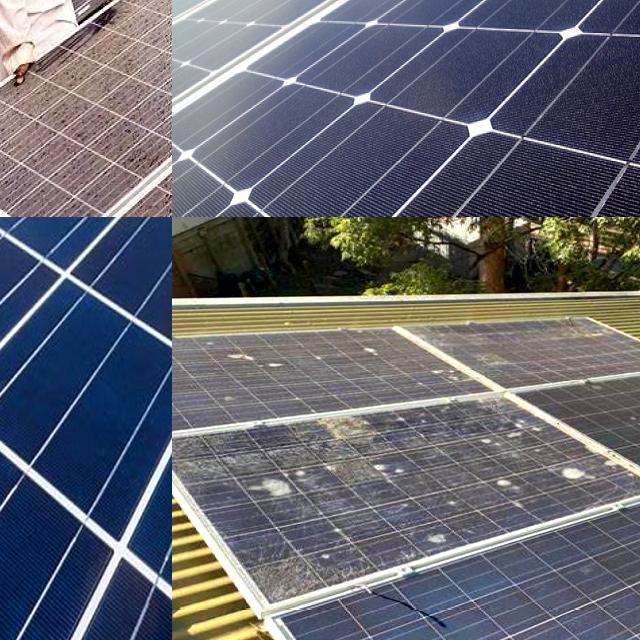bird: (204, 336, 328, 379), (442, 416, 550, 458), (304, 402, 388, 442), (246, 455, 304, 507), (424, 354, 497, 392), (274, 553, 320, 597), (556, 443, 590, 499), (336, 326, 394, 358), (406, 524, 453, 554), (368, 460, 410, 490), (469, 470, 520, 494), (172, 357, 187, 393)
crack: (0, 217, 172, 640)
dust: (58, 51, 169, 150), (206, 0, 394, 38), (172, 29, 215, 188), (0, 36, 34, 128), (0, 112, 39, 181), (0, 0, 48, 43), (0, 0, 33, 56), (0, 0, 39, 43), (0, 0, 30, 51), (88, 0, 172, 17), (123, 0, 153, 39), (140, 0, 172, 25), (41, 0, 86, 16)
